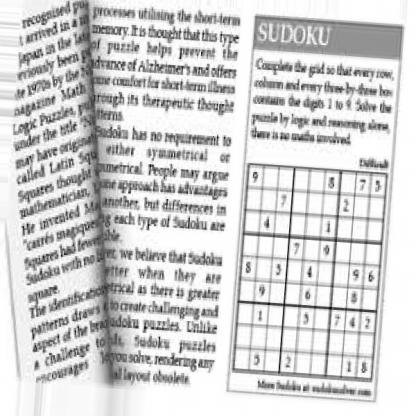sudoku: (230, 161, 391, 384)
